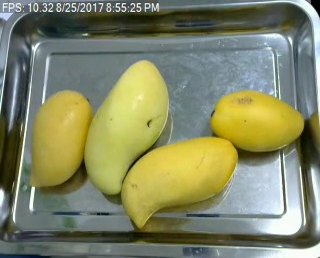Mango: (82, 57, 172, 197), (113, 134, 238, 229), (26, 89, 93, 188), (209, 87, 306, 154)
